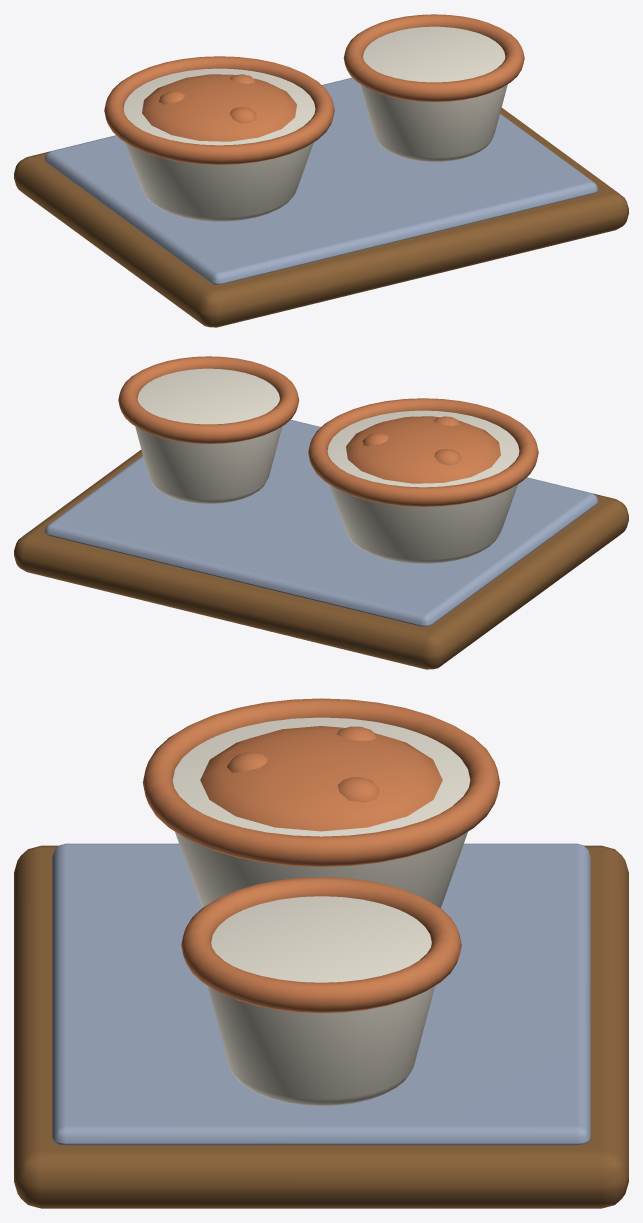
Rendered from pet_bowl.glb.
3 views of the same model, one above another, from view 1: azimuth 30°, elevation 25°; view 2: azimuth 150°, elevation 25°; view 3: azimuth 270°, elevation 25° (orthographic). The views are drawn at different scales.
Visible parts, largest first — view 1: Tray liner, Bowl tray, Water bowl, Food bowl, Food bowl rim, Kibble, Water bowl rim; view 2: Tray liner, Bowl tray, Water bowl, Food bowl, Food bowl rim, Kibble, Water bowl rim; view 3: Tray liner, Bowl tray, Water bowl, Food bowl rim, Kibble, Food bowl, Water bowl rim, Kibble bit.001.
Boxes of the visible parts, x1,y1,x2,y2 form: Tray liner: (44,77,598,284); Bowl tray: (14,108,628,327); Water bowl: (360,26,507,161); Food bowl: (123,68,315,221); Food bowl rim: (104,56,334,164); Kibble: (142,74,296,141); Water bowl rim: (343,14,524,101); Tray liner: (44,419,598,626); Bowl tray: (14,450,628,669); Water bowl: (135,368,282,503); Food bowl: (327,410,519,563); Food bowl rim: (308,398,538,506); Kibble: (346,416,500,483); Water bowl rim: (118,356,299,443); Tray liner: (52,843,590,1145); Bowl tray: (14,845,628,1208); Water bowl: (208,896,434,1106); Food bowl rim: (142,698,500,866); Kibble: (200,726,442,831); Food bowl: (172,717,470,907); Water bowl rim: (181,877,461,1013); Kibble bit.001: (337,777,379,802).
Bounding box in the file's own units: 0.4 × 0.128 × 0.32.
